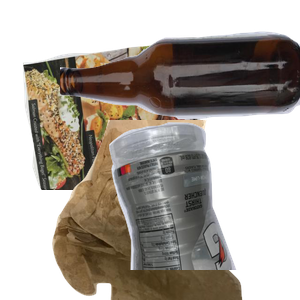glass: (60, 29, 300, 141)
paper: (20, 34, 221, 214)
plastic: (106, 120, 300, 300)
trash: (50, 120, 285, 300)
